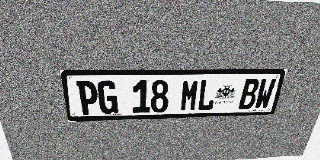1: (132, 80, 151, 113)
8: (150, 80, 169, 112)
B: (238, 79, 260, 110)
G: (97, 80, 118, 114)
L: (196, 79, 217, 111)
M: (180, 79, 200, 111)
P: (76, 81, 99, 115)
W: (253, 79, 277, 109)
